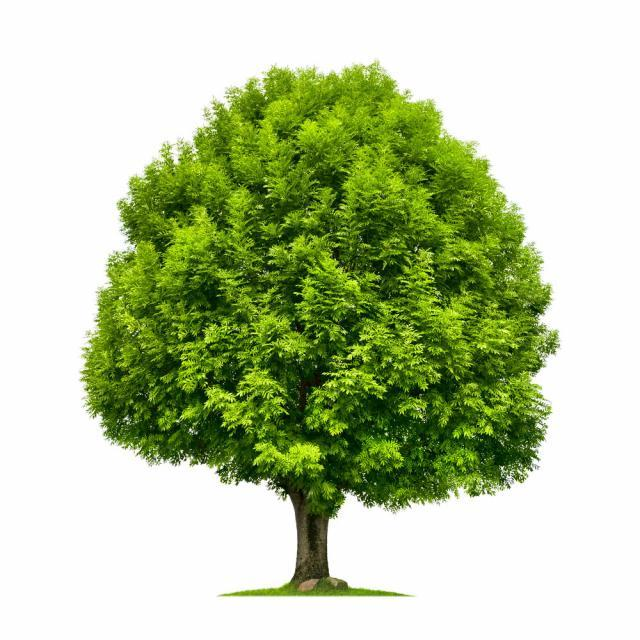Tree: (72, 64, 575, 593)
